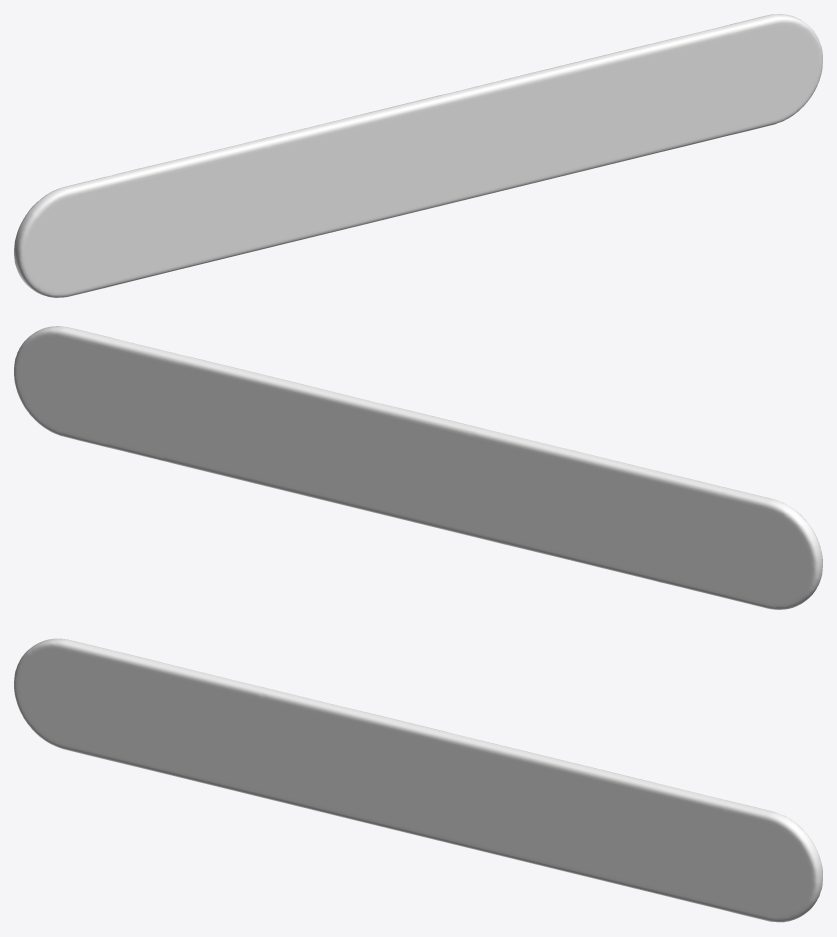
Rendered from navbar.glb.
The picture shows the model from 3 angles, top to bottom: view 1: azimuth 30°, elevation 25°; view 2: azimuth 150°, elevation 25°; view 3: azimuth 330°, elevation 25°; orthographic projection.
Parts seen in each view (by area): view 1: Navbar Background; view 2: Navbar Background; view 3: Navbar Background.
Boxes of the visible parts, x1,y1,x2,y2 form: Navbar Background: [14, 14, 822, 297]; Navbar Background: [14, 326, 822, 609]; Navbar Background: [14, 638, 822, 922].
Bounding box in the file's own units: 400 × 50.8 × 6.35.
1 material, 1 textured.
